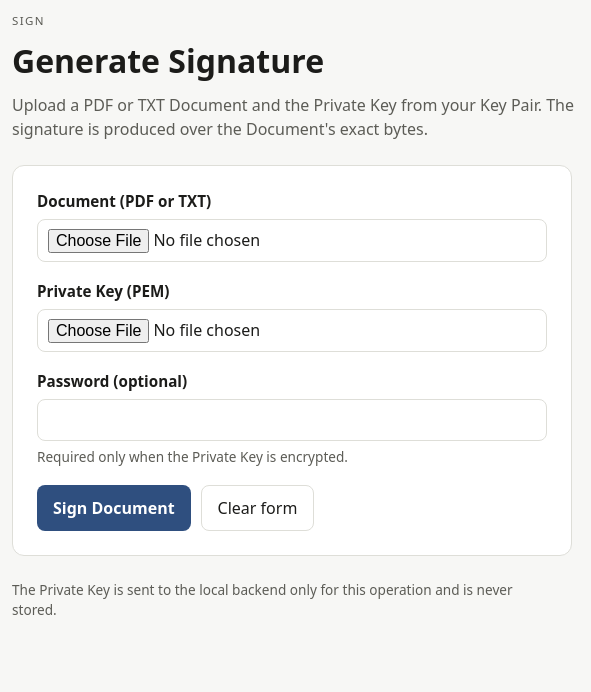
it: Generate Signature › requires a Document and Private Key before submitting
Click the button "Sign Document" at (114, 508), box [37,485,191,531]
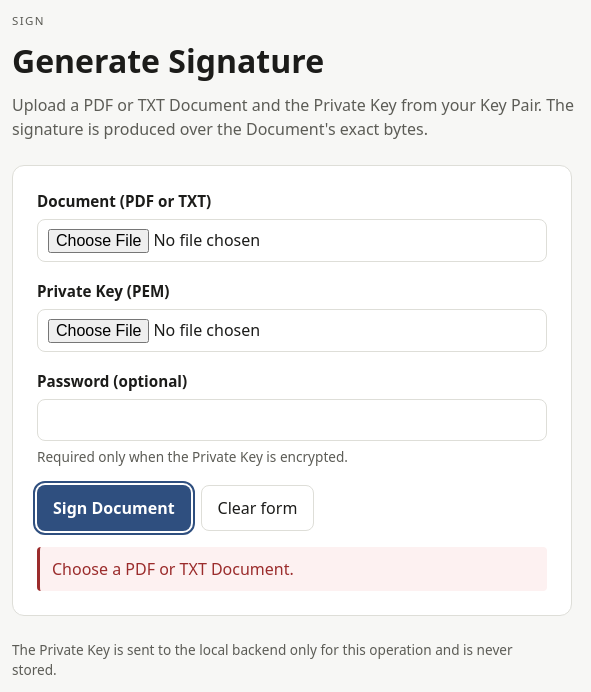
Expected: the message shows "Document", [52,558,294,580]
